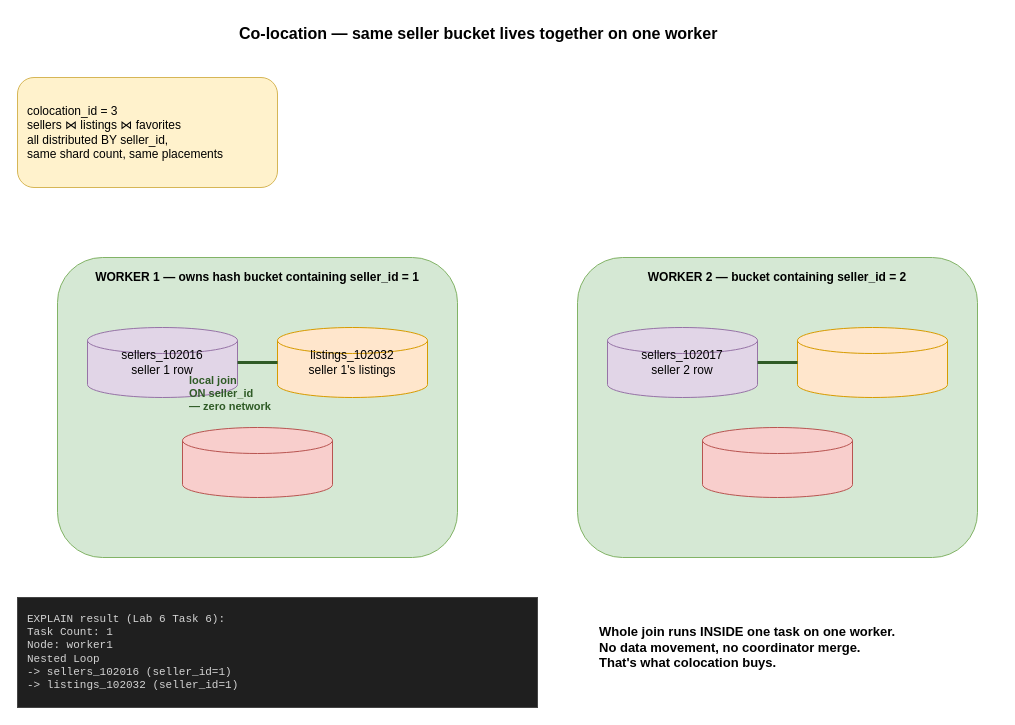
Image size: 1015x725. Some labels were removed from this diagram. The centre of each missing label's shape, as x and y in pixels:
"favorites_102048 seller 1's favorites" goes at point (257, 462).
"favorites_102049 seller 2's favorites" goes at point (777, 462).
"listings_102033 seller 2's listings" goes at point (872, 362).
